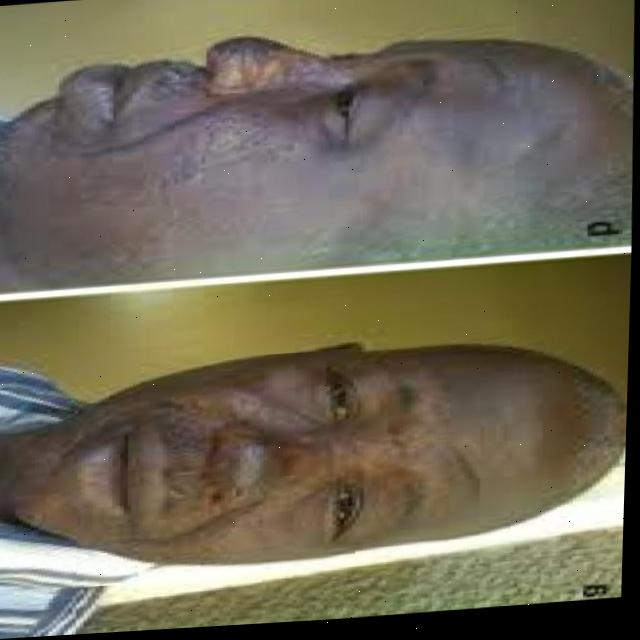Rosacea: (195, 102, 292, 166), (208, 39, 287, 94), (226, 435, 289, 496), (222, 383, 286, 436)
